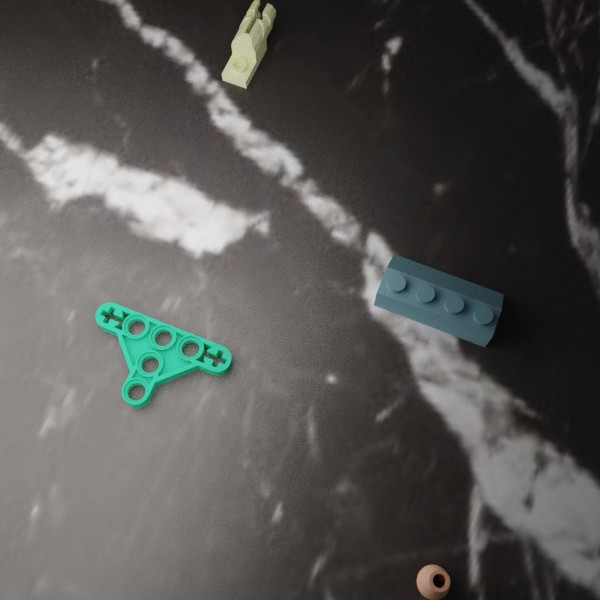lego: (95, 302, 232, 408), (373, 253, 503, 347), (221, 0, 276, 88), (416, 564, 450, 600)
